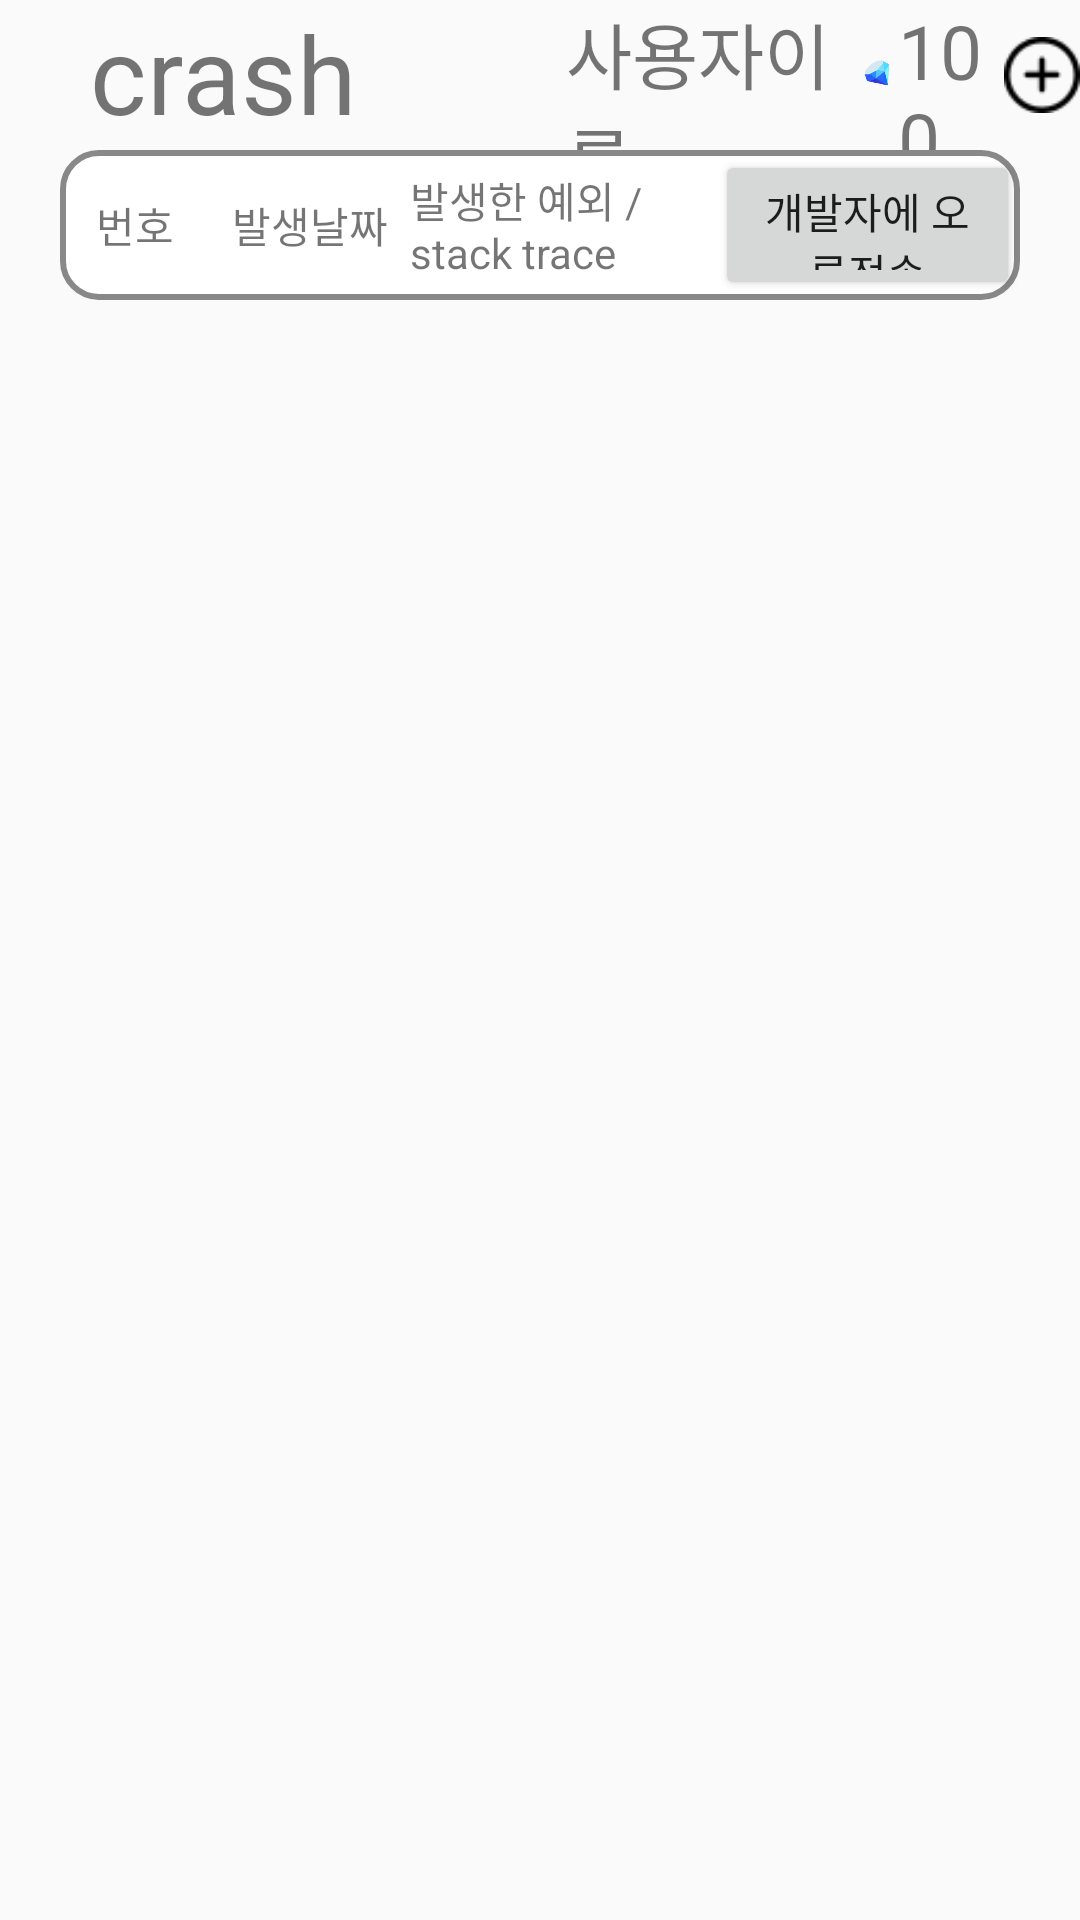

Icons on this 1080x1920 Android screen, each with its box as [x1,y1,x2,y2]:
diamond: [864,60,889,85]
plus: [1004,37,1080,113]
